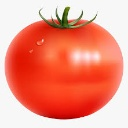tomato: (4, 19, 123, 120)
